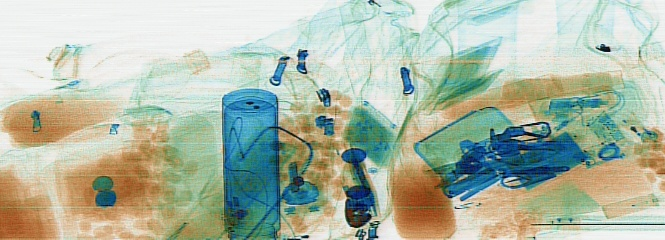lighter: (615, 106, 658, 144)
scissors: (496, 162, 554, 189)
